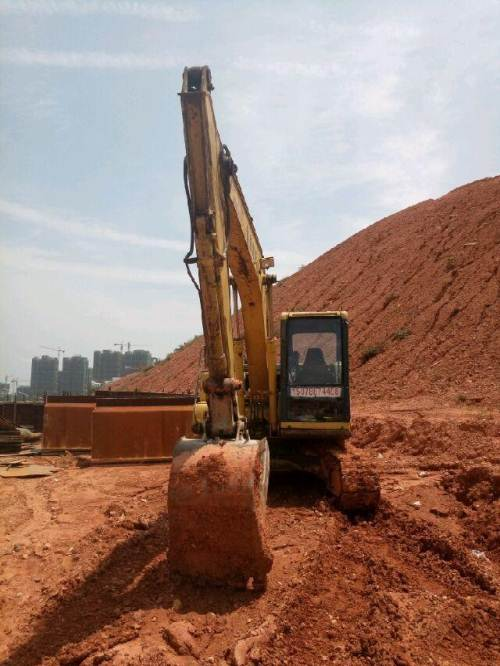excavator: (150, 52, 386, 618)
